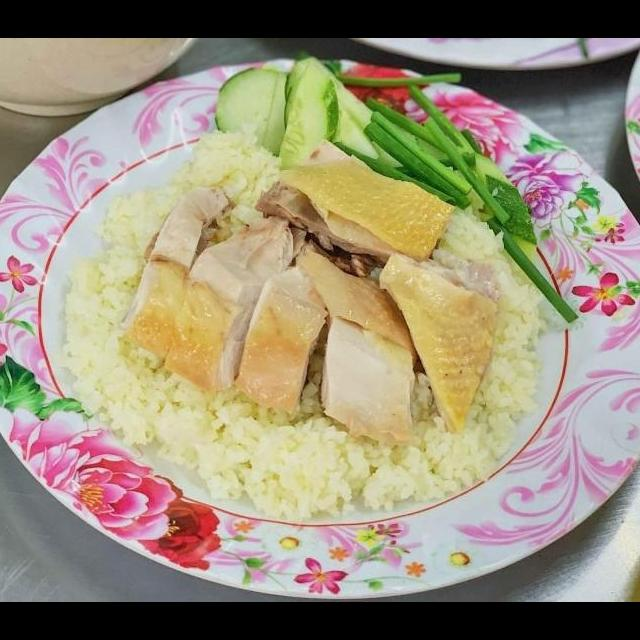com: (226, 396, 498, 522), (51, 341, 247, 504), (57, 181, 183, 344), (161, 125, 285, 252), (428, 200, 553, 318), (469, 306, 551, 471)
com ga: (0, 102, 640, 602)
thit ga: (288, 237, 428, 449), (246, 136, 457, 270), (158, 212, 312, 395), (373, 243, 506, 439), (117, 177, 242, 363), (227, 260, 331, 416)
